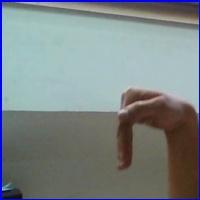del: (113, 82, 190, 175)
